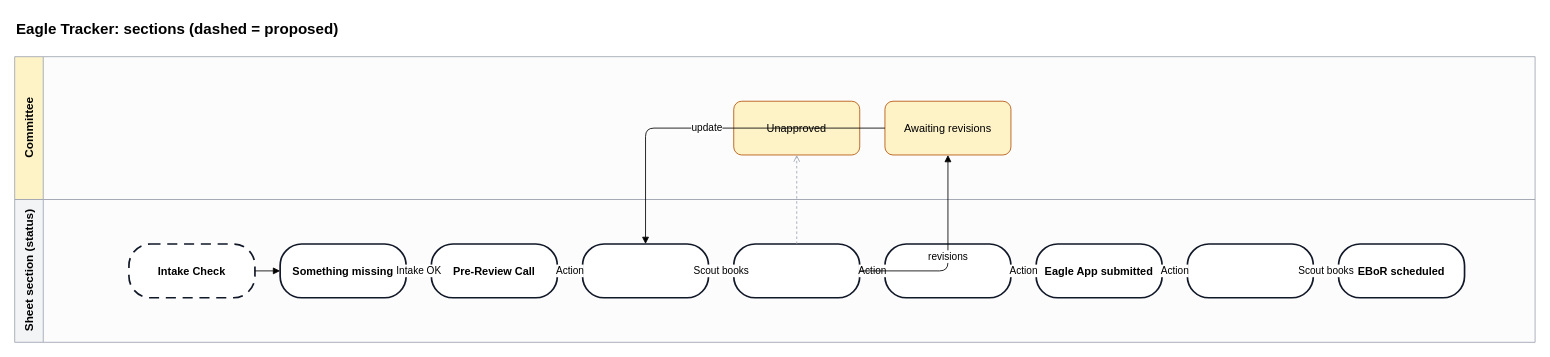
Image size: 1550x357. Some labels were removed from this diagram. Here are the shapes that lost their labels. From the top down, the centre of each, then its label:
the point at 645,270: Pending Review Date
the point at 796,270: Review scheduled
the point at 947,270: Approved
the point at 1250,270: App verified
